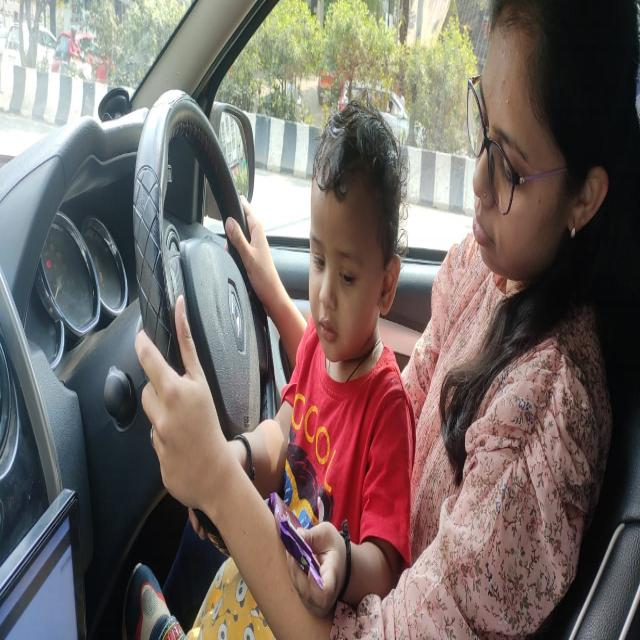child: (307, 115, 399, 364)
person: (459, 0, 630, 290)
